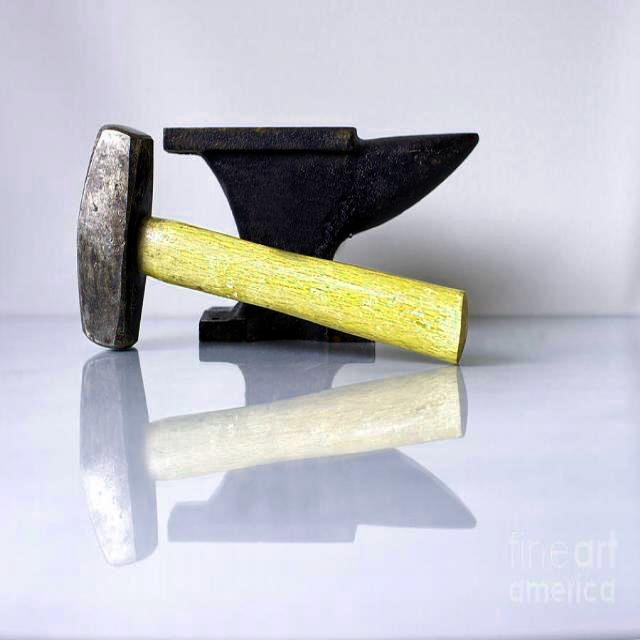hammer: (56, 116, 474, 369)
